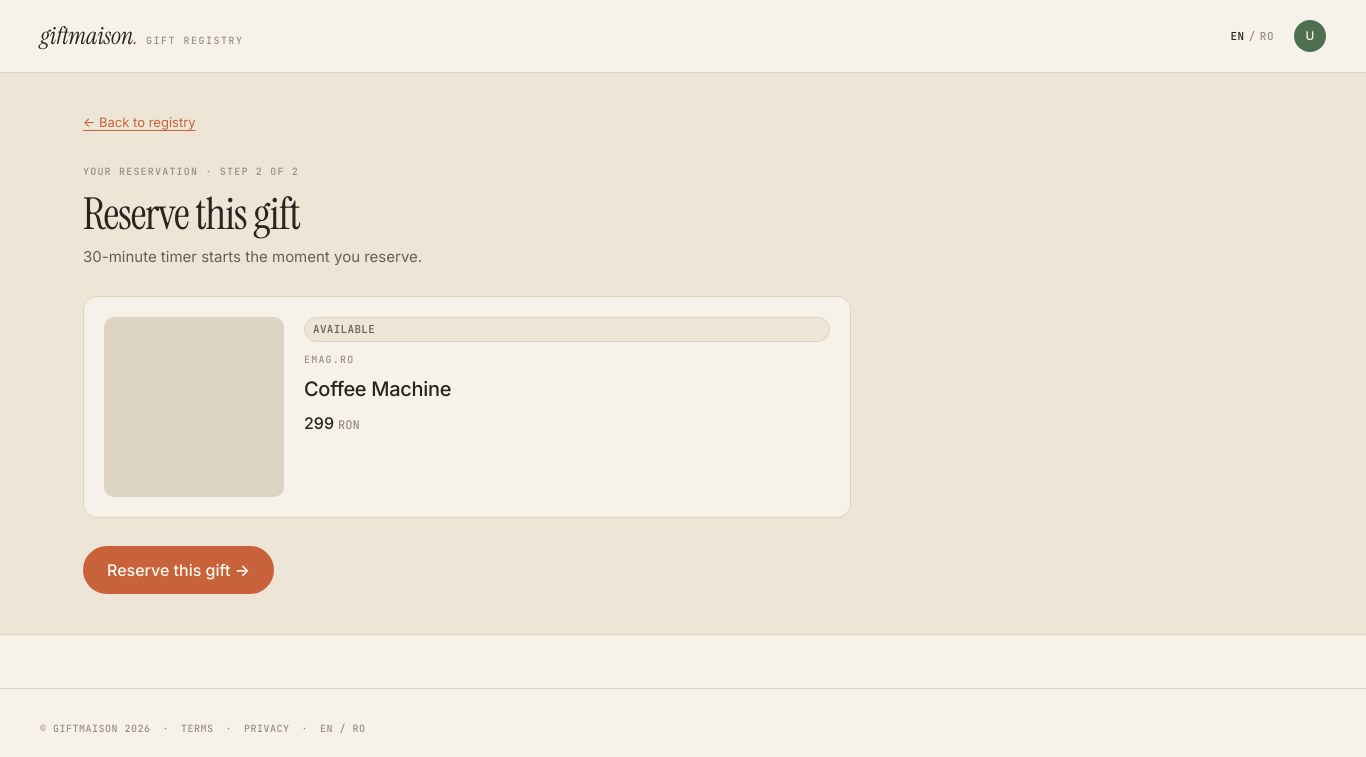
Test: ItemReservePage › K-12 (Reserve → seed shared context → reserved-by-me detail): clicking Reserve on BROWSE_AVAILABLE seeds useActiveReservation; next render transitions into rese
Expected: the element with test id "item-reserve-available" is shown, [83,157,851,594]
Click Reserve → mutation fires
Click the button "Reserve this gift →".
click(178, 570)  # box [83,546,274,594]
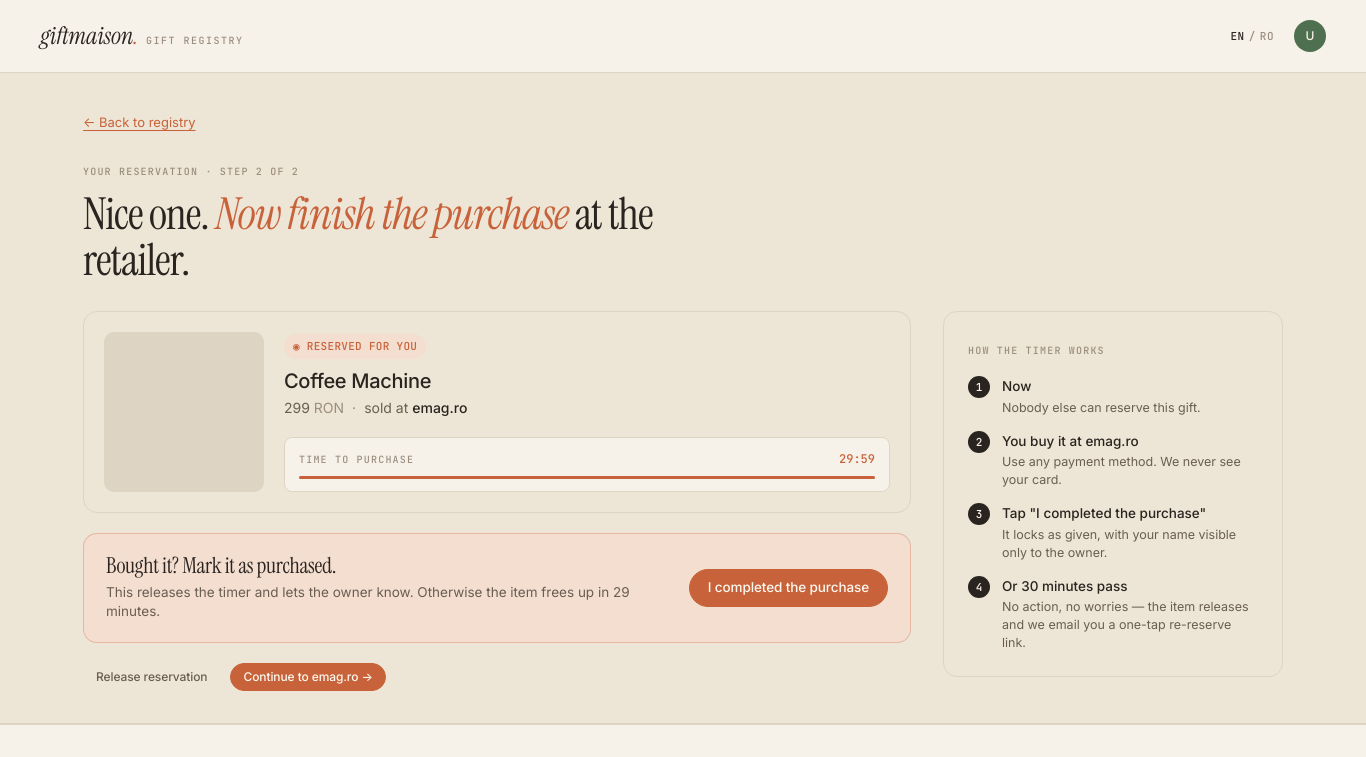
Expected: the element with test id "item-reserve-available" is gone
Expected: the element with test id "item-reserve-detail" is shown
